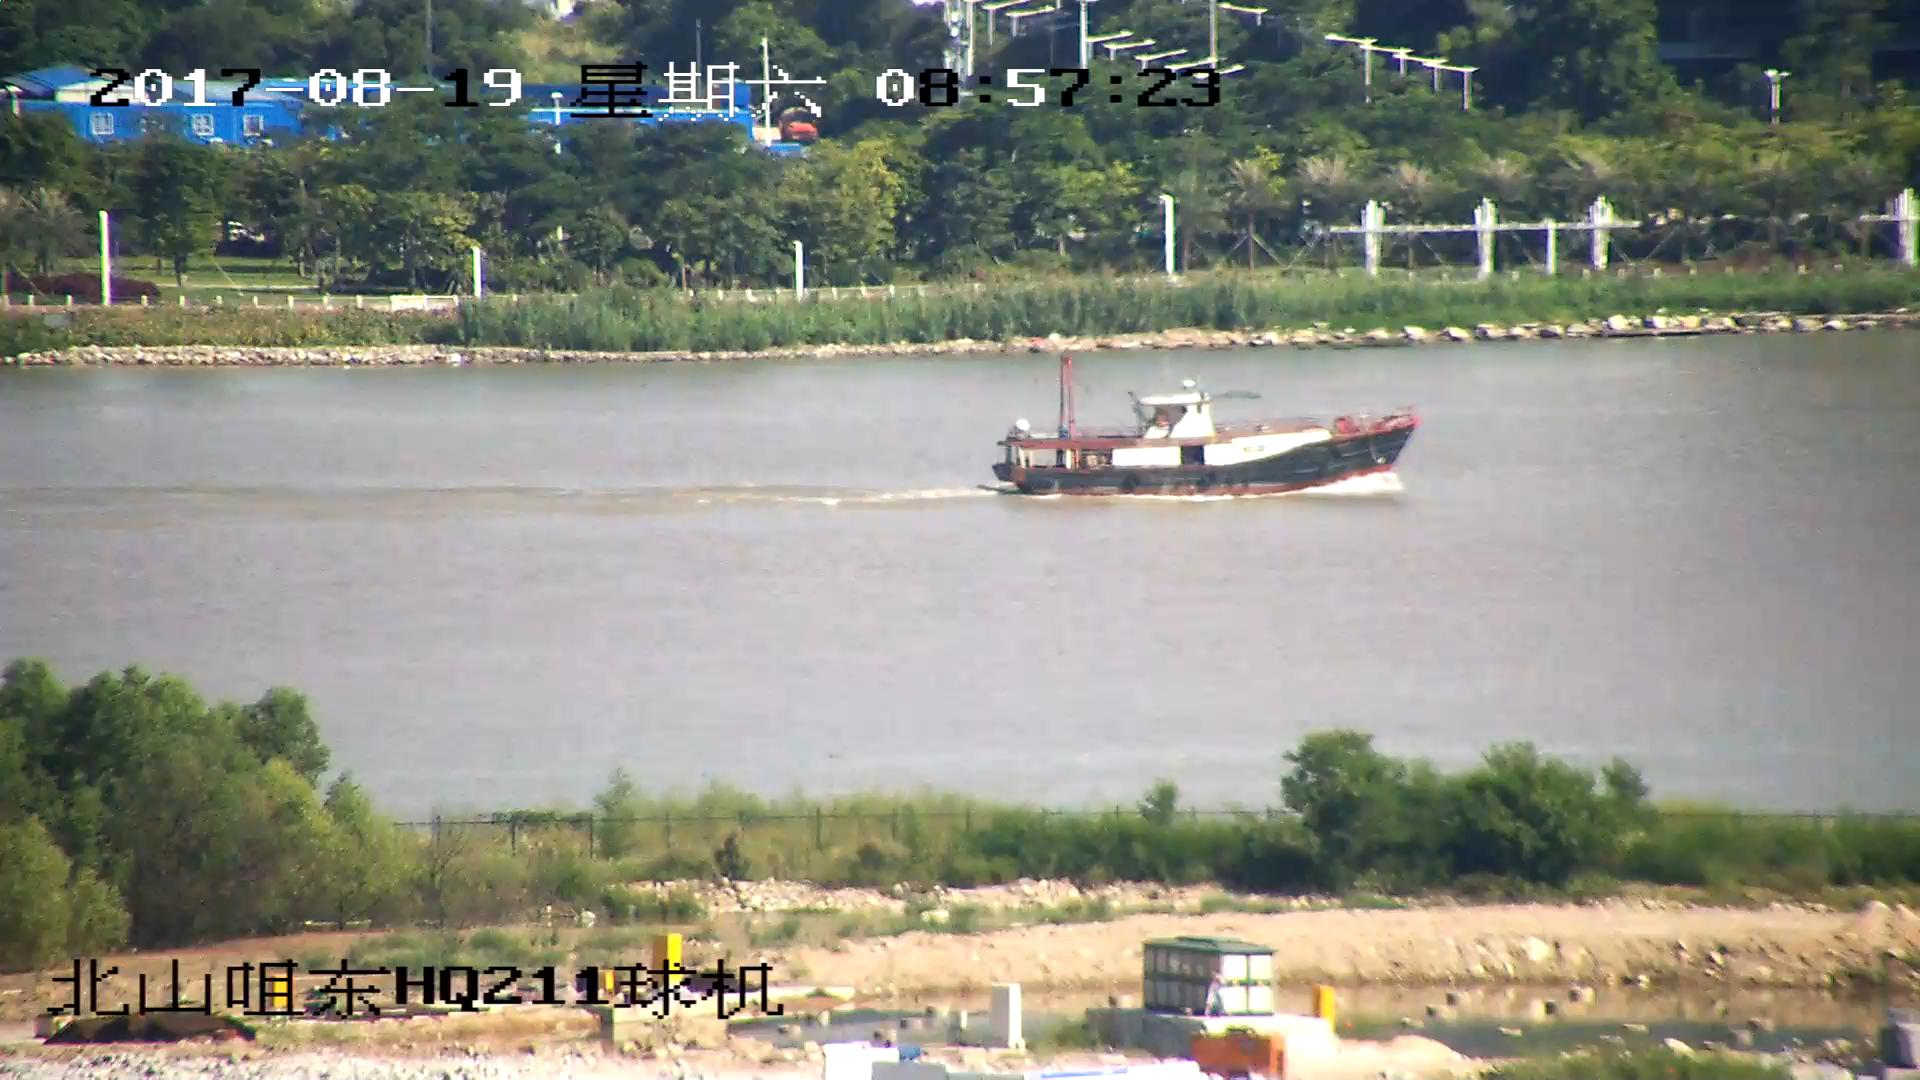fishing boat: (990, 353, 1423, 501)
